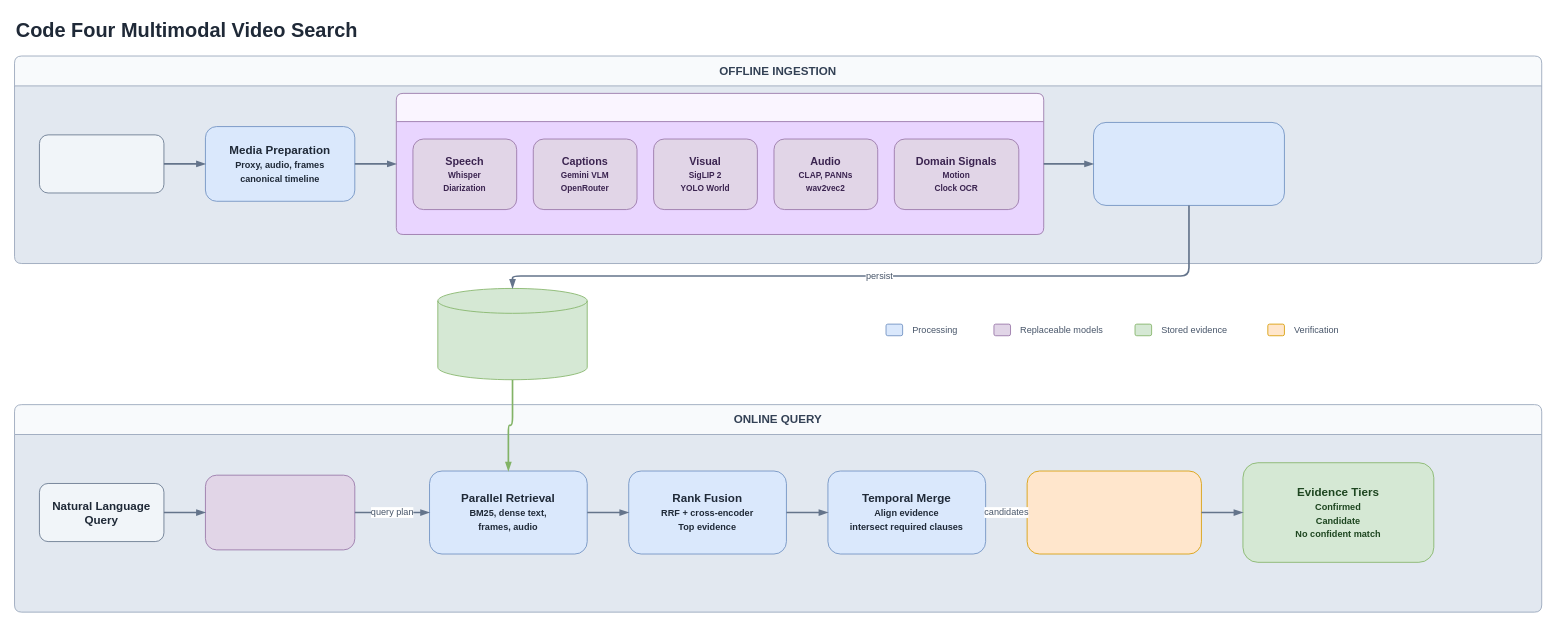
This 1556x627 diagram has some shape labels left out. Each missing label, with the box of its shape:
Canonical Evidence Doc { video, start, end, modality, text, extra }: (1093, 122, 1284, 205)
Evidence Index SQLite documents NumPy vectors: (437, 288, 587, 380)
LLM Planner Clauses, modalities, filters, negatives: (205, 474, 355, 550)
REPLACEABLE MODALITY EXTRACTORS • YAML + REGISTRY: (395, 93, 1044, 234)
Source Video Bodycam MP4: (39, 134, 164, 193)
VLM Verifier Real frames + transcript Confirm, reject, unclear: (1026, 470, 1201, 554)
